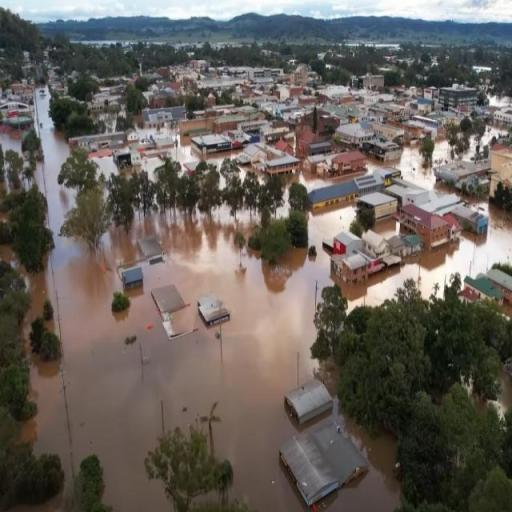flood: (9, 90, 512, 512), (278, 173, 354, 216), (91, 155, 162, 180), (169, 144, 200, 163), (206, 151, 242, 165), (434, 140, 451, 163), (482, 126, 503, 144), (0, 134, 19, 151), (138, 130, 154, 136)
house: (278, 425, 366, 504), (403, 197, 458, 253), (463, 268, 511, 326), (283, 377, 334, 427), (334, 238, 372, 286), (306, 180, 360, 211), (356, 192, 398, 226), (320, 148, 366, 178), (363, 135, 400, 164), (194, 133, 234, 159), (336, 120, 366, 153), (456, 207, 490, 235), (261, 154, 298, 178), (119, 264, 146, 296), (438, 88, 478, 109), (364, 228, 391, 259), (489, 144, 512, 174), (114, 147, 141, 168), (356, 174, 383, 192), (296, 130, 318, 150), (240, 118, 268, 132), (385, 105, 411, 120), (493, 108, 512, 125), (143, 108, 159, 128), (253, 69, 282, 78), (418, 98, 434, 114), (126, 128, 140, 143), (294, 68, 305, 85), (78, 137, 92, 148)
